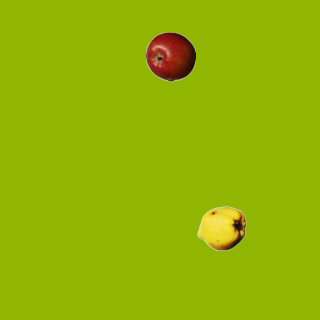Apple Braeburn: (145, 31, 195, 81)
Quince: (196, 203, 246, 253)
